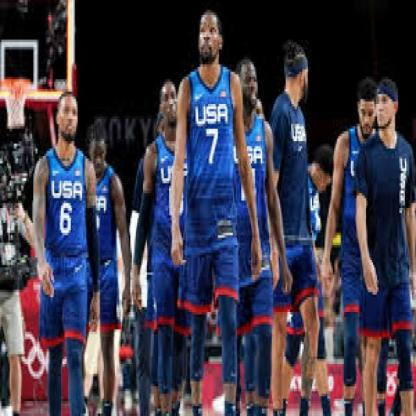rim: (0, 77, 29, 97)
